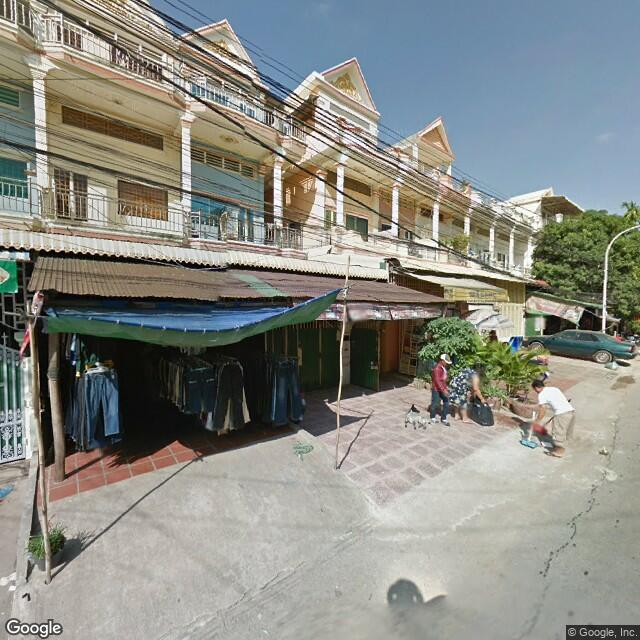litter: (1, 569, 17, 594)
